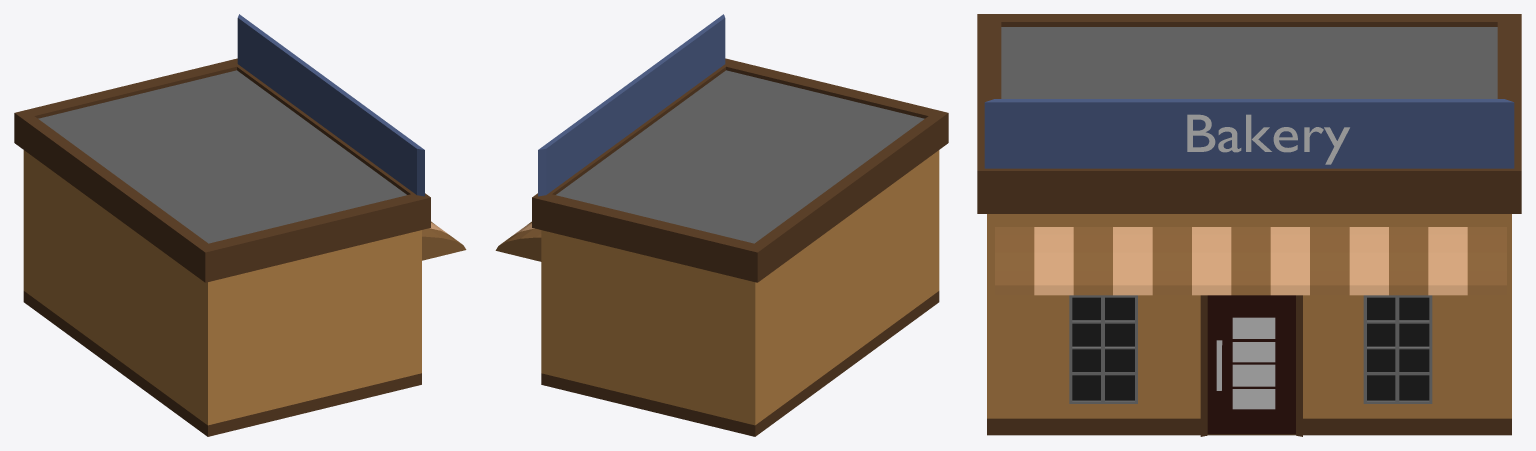
File: Building_Bakery.fbx
3 renders of one model, left to right at view 1: azimuth 30°, elevation 25°; view 2: azimuth 150°, elevation 25°; view 3: azimuth 270°, elevation 25°, orthographic. The views are drawn at different scales.
Visible parts, largest first — view 1: Cube, Plane; view 2: Cube, Plane; view 3: Cube, Plane, Text.
Boxes of the visible parts, left/top/right/bottom form: Cube: left=14, top=14, right=430, bottom=436; Plane: left=422, top=221, right=466, bottom=260; Cube: left=532, top=14, right=948, bottom=436; Plane: left=495, top=221, right=541, bottom=261; Cube: left=977, top=14, right=1521, bottom=436; Plane: left=995, top=227, right=1506, bottom=295; Text: left=1187, top=114, right=1349, bottom=164.
Size of the model in its own units: 730 by 613 by 903.
